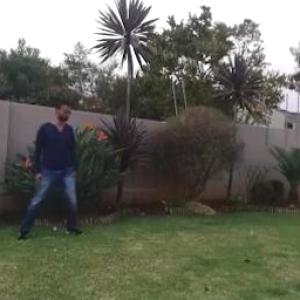follow: (35, 89, 79, 241)
